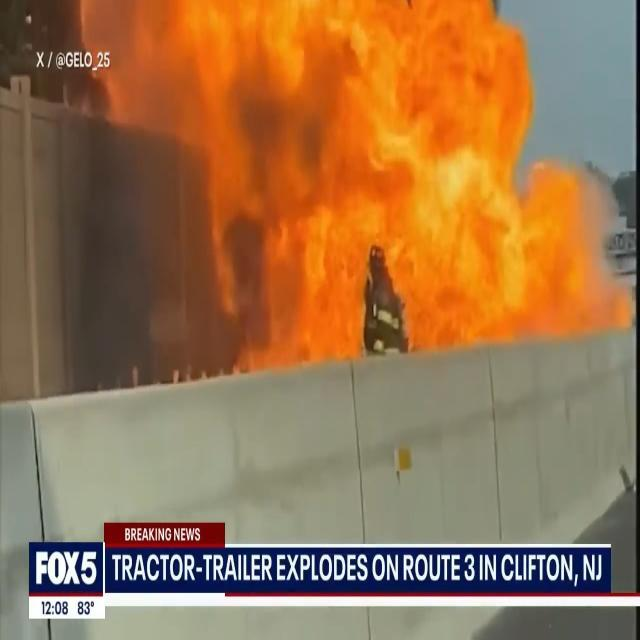fire: (126, 1, 552, 358)
